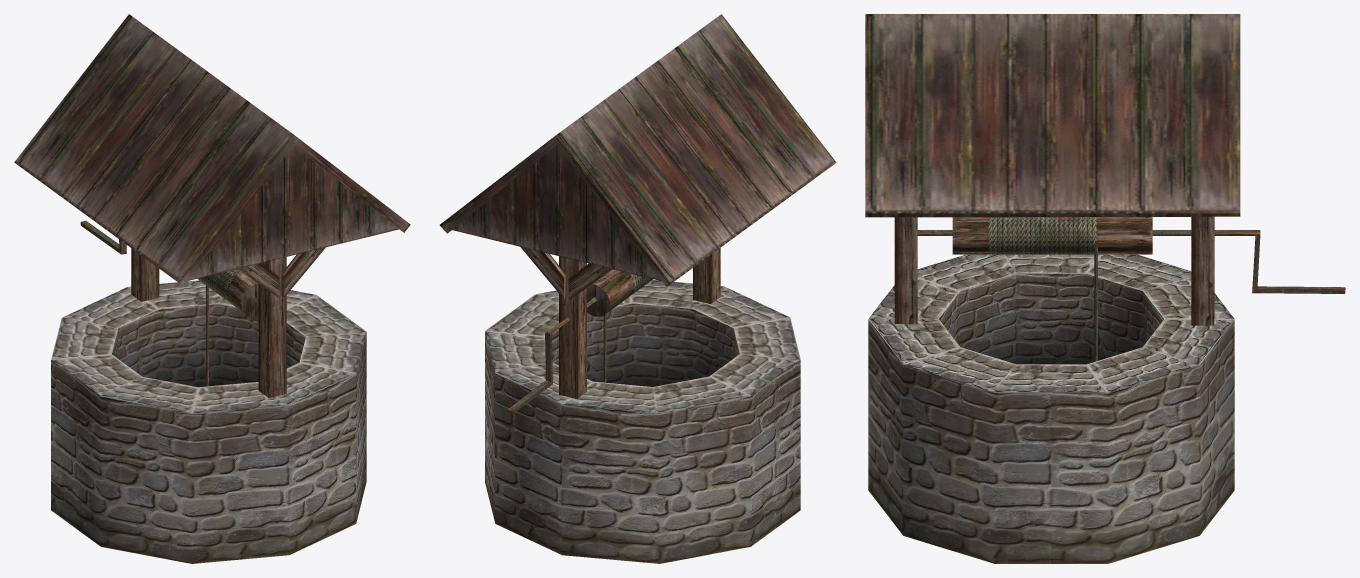
The model's file is rd_will1.glb.
3 views of the same model, side by side, from view 1: azimuth 30°, elevation 25°; view 2: azimuth 150°, elevation 25°; view 3: azimuth 270°, elevation 25° (orthographic). The views are drawn at different scales.
Parts seen in each view (by area): view 1: rd_will1; view 2: rd_will1; view 3: rd_will1.
Boxes of the visible parts, x1,y1,x2,y2 form: rd_will1: (14,14,410,563); rd_will1: (439,14,836,563); rd_will1: (865,14,1345,563).
Bounding box in the file's own units: 2.11 × 3.19 × 2.9.
6 materials, 6 textured.
